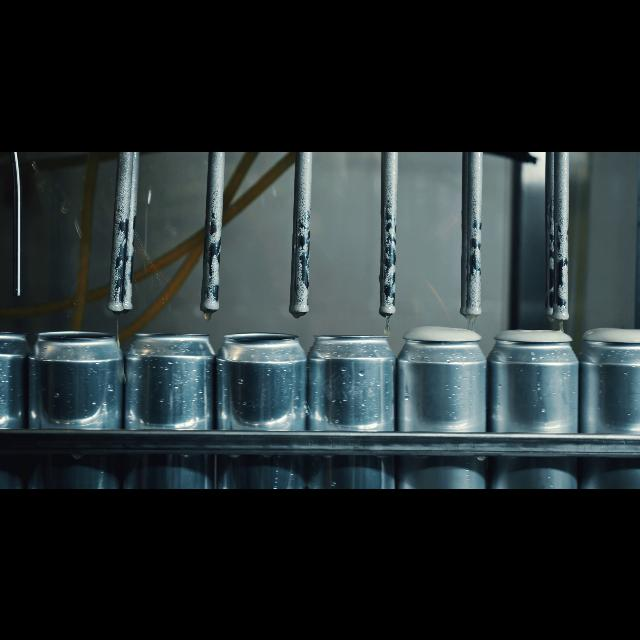empty: (28, 324, 122, 488), (217, 326, 306, 488), (128, 328, 212, 488), (311, 328, 393, 488)
full: (398, 320, 487, 488), (491, 322, 575, 488), (584, 320, 640, 488)
